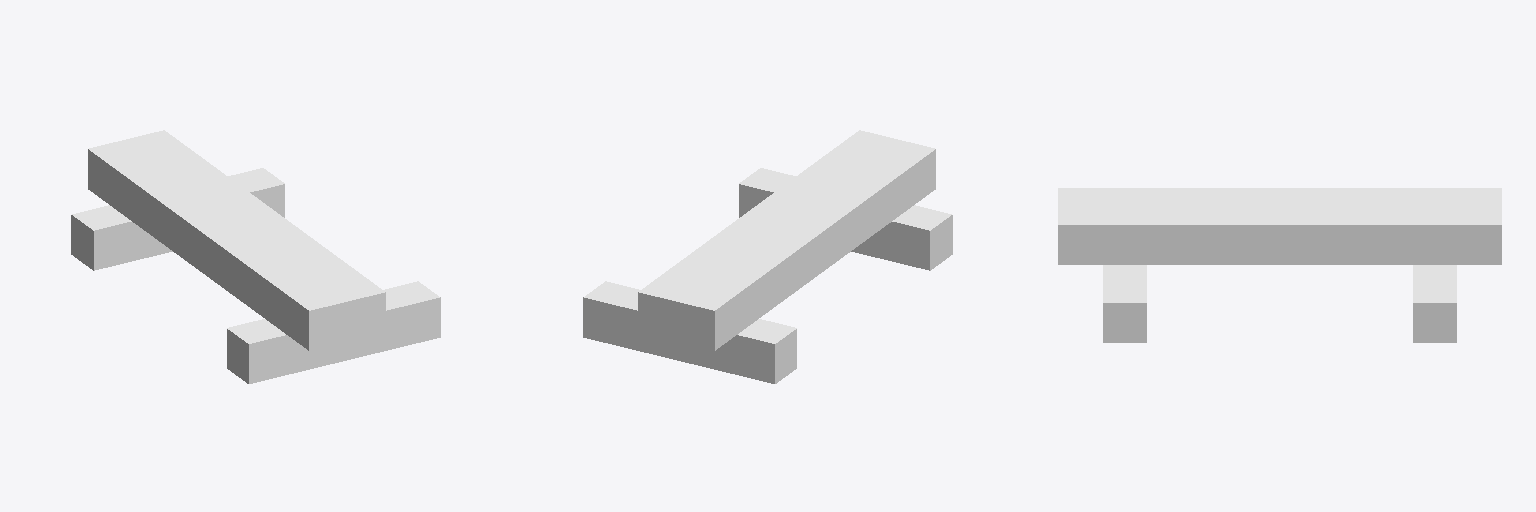
Rendered from track_short.obj.
3 views of the same model, side by side, from view 1: azimuth 30°, elevation 25°; view 2: azimuth 150°, elevation 25°; view 3: azimuth 270°, elevation 25° (orthographic).
Size of the model in its own units: 5 by 2 by 10.